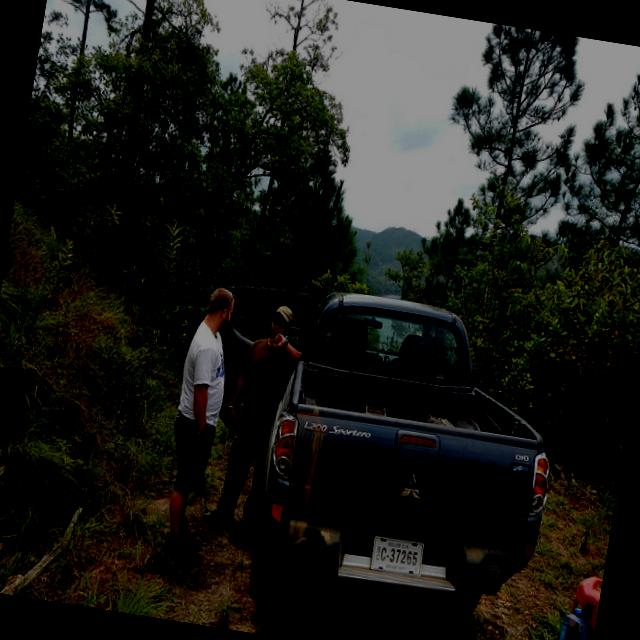Vehicle: (240, 277, 576, 633)
